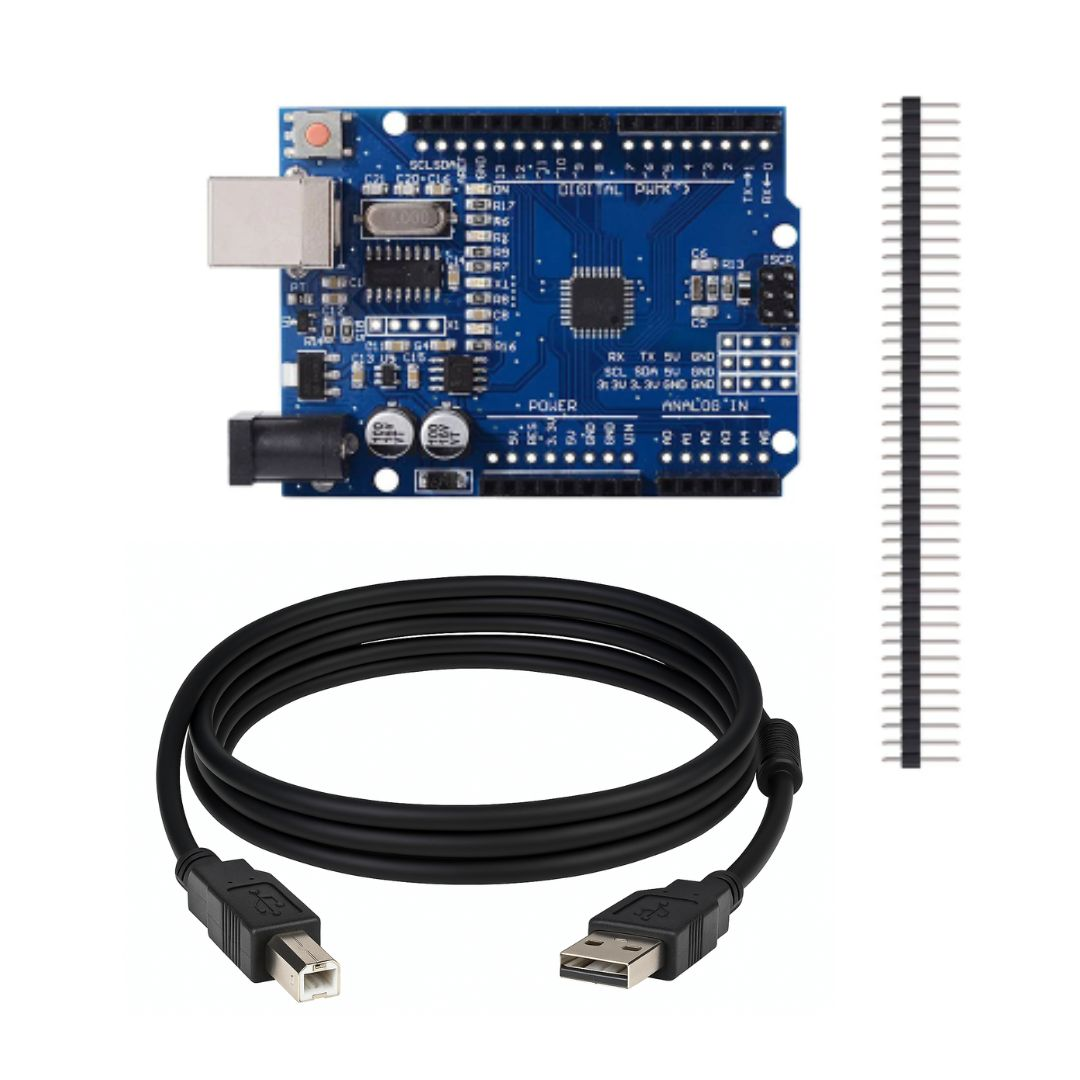Arduino: (189, 83, 805, 504)
